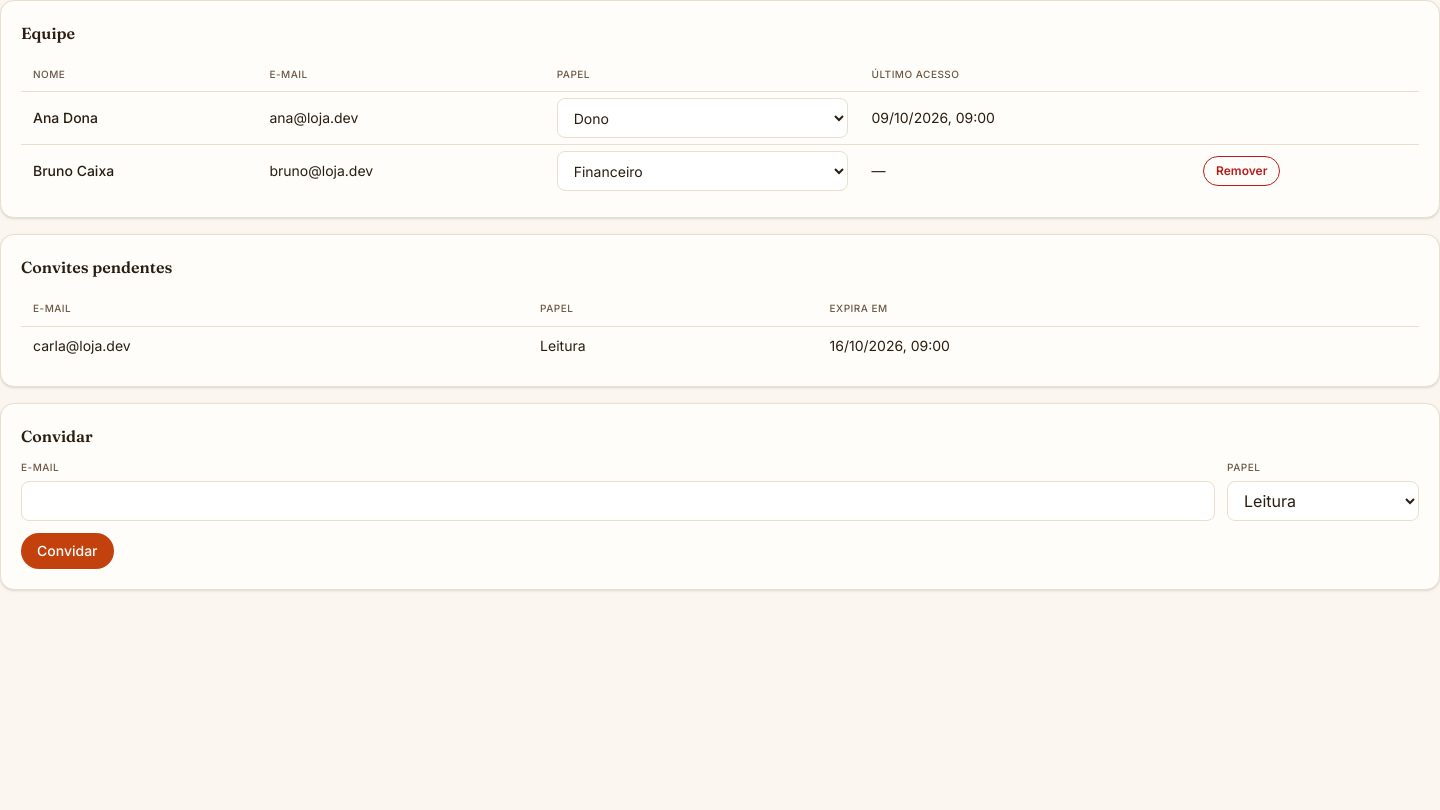
Scenario: TeamSection › invitesAndConfirms
Expected: the text "Bruno Caixa" is shown, x1=21 y1=145 x2=257 y2=197
In the field labelled "E-mail": (618, 501) x1=21 y1=481 x2=1215 y2=521, type "davi@loja.dev"
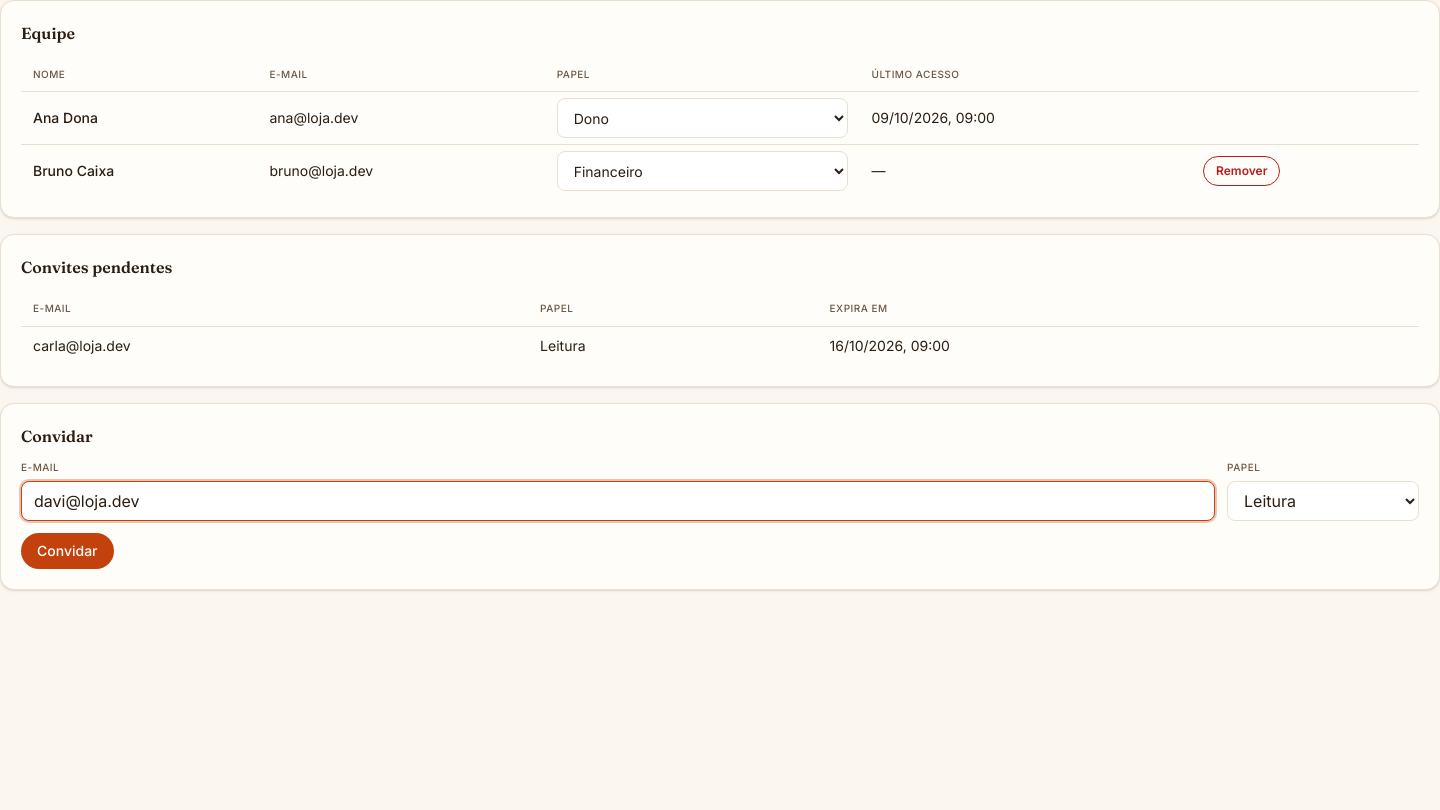
Select "Financeiro" in the dropdown labelled "Papel": (1323, 501) x1=1227 y1=481 x2=1419 y2=521
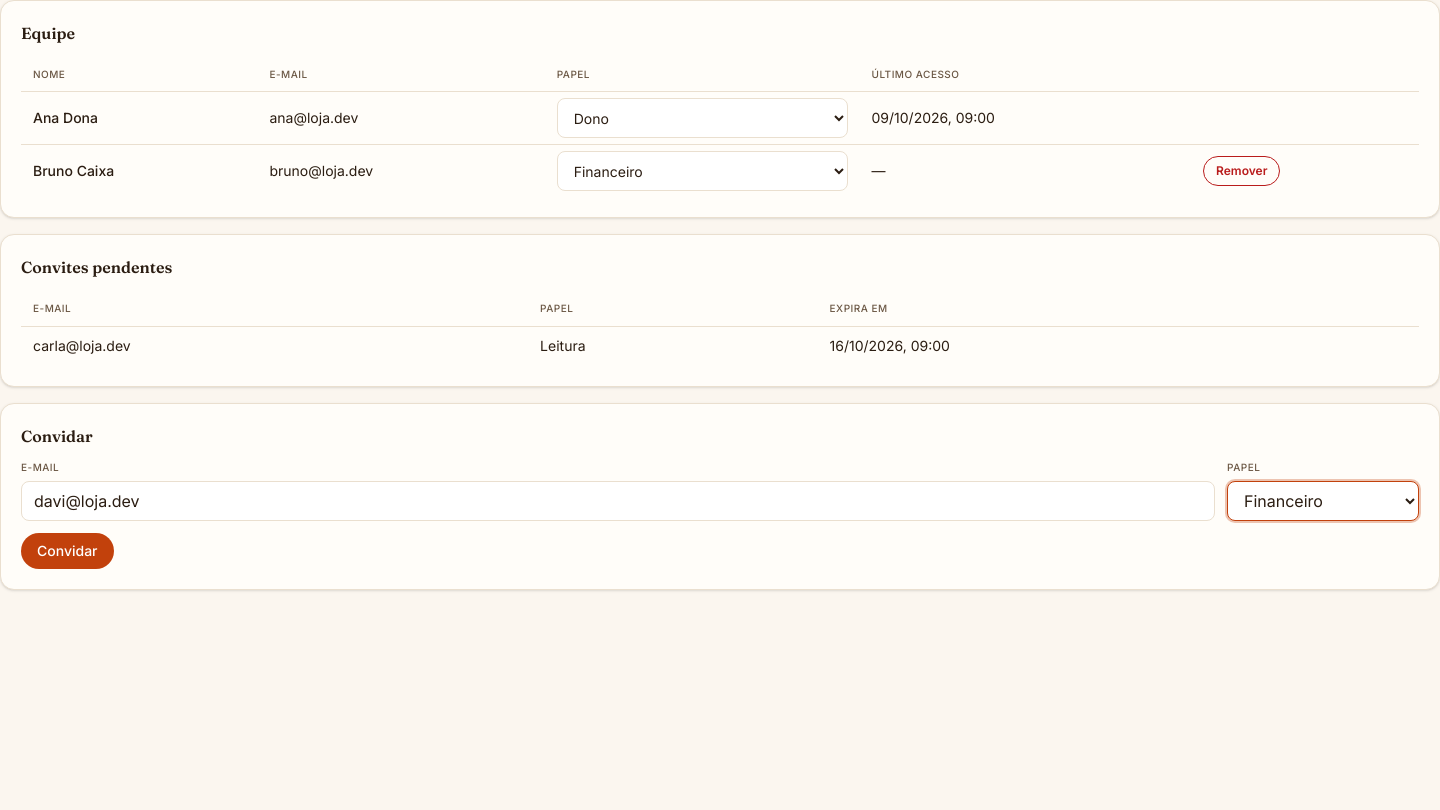
Click the button "Convidar": (67, 551) x1=21 y1=533 x2=114 y2=569
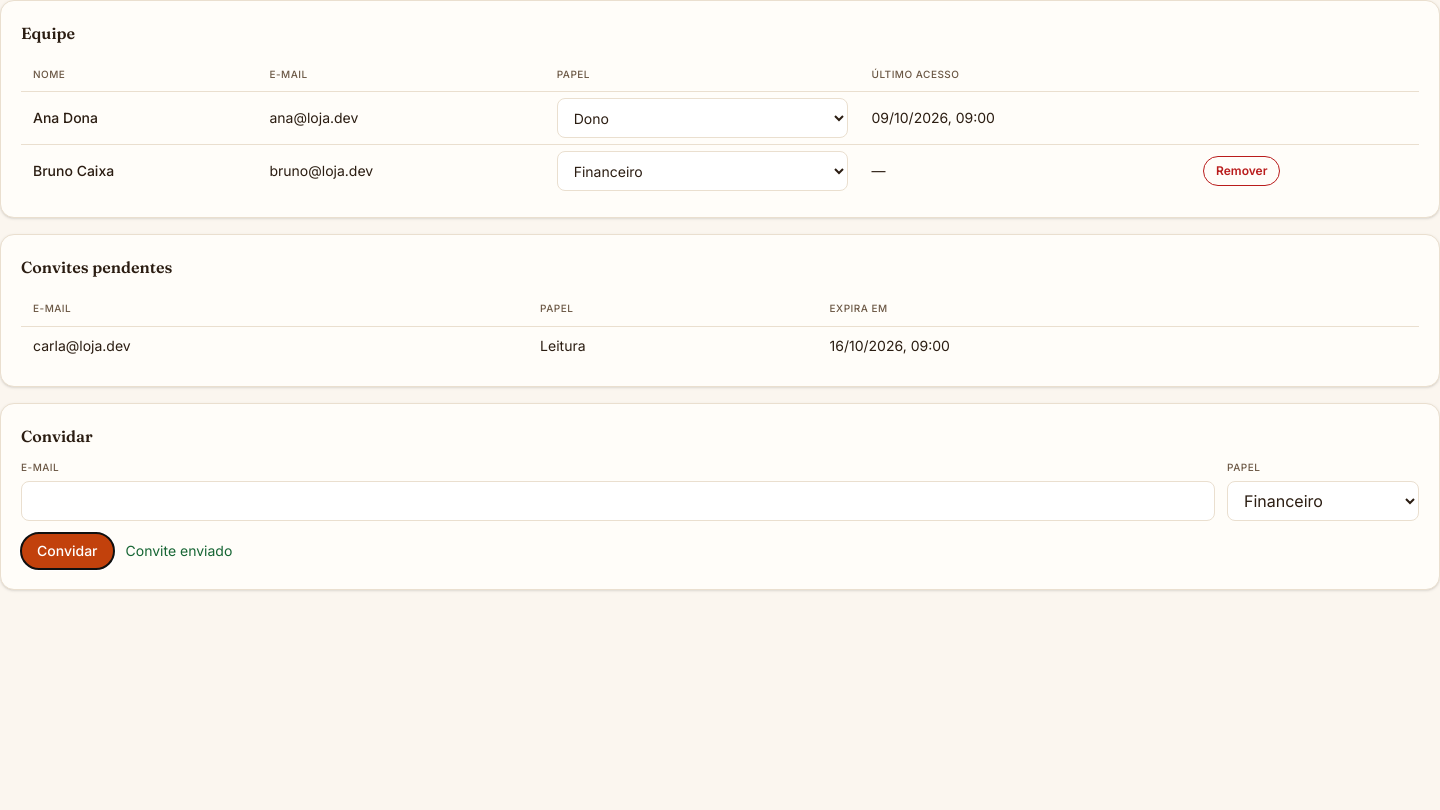
Expected: the text "Convite enviado" is shown, x1=126 y1=541 x2=232 y2=561
